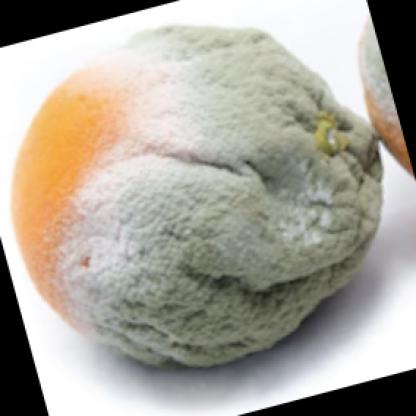rotten_orange: (14, 8, 378, 377)
